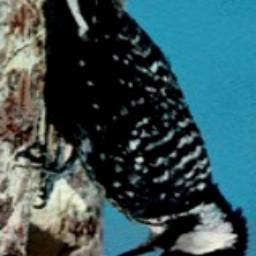Woodpecker: (12, 0, 256, 256)
